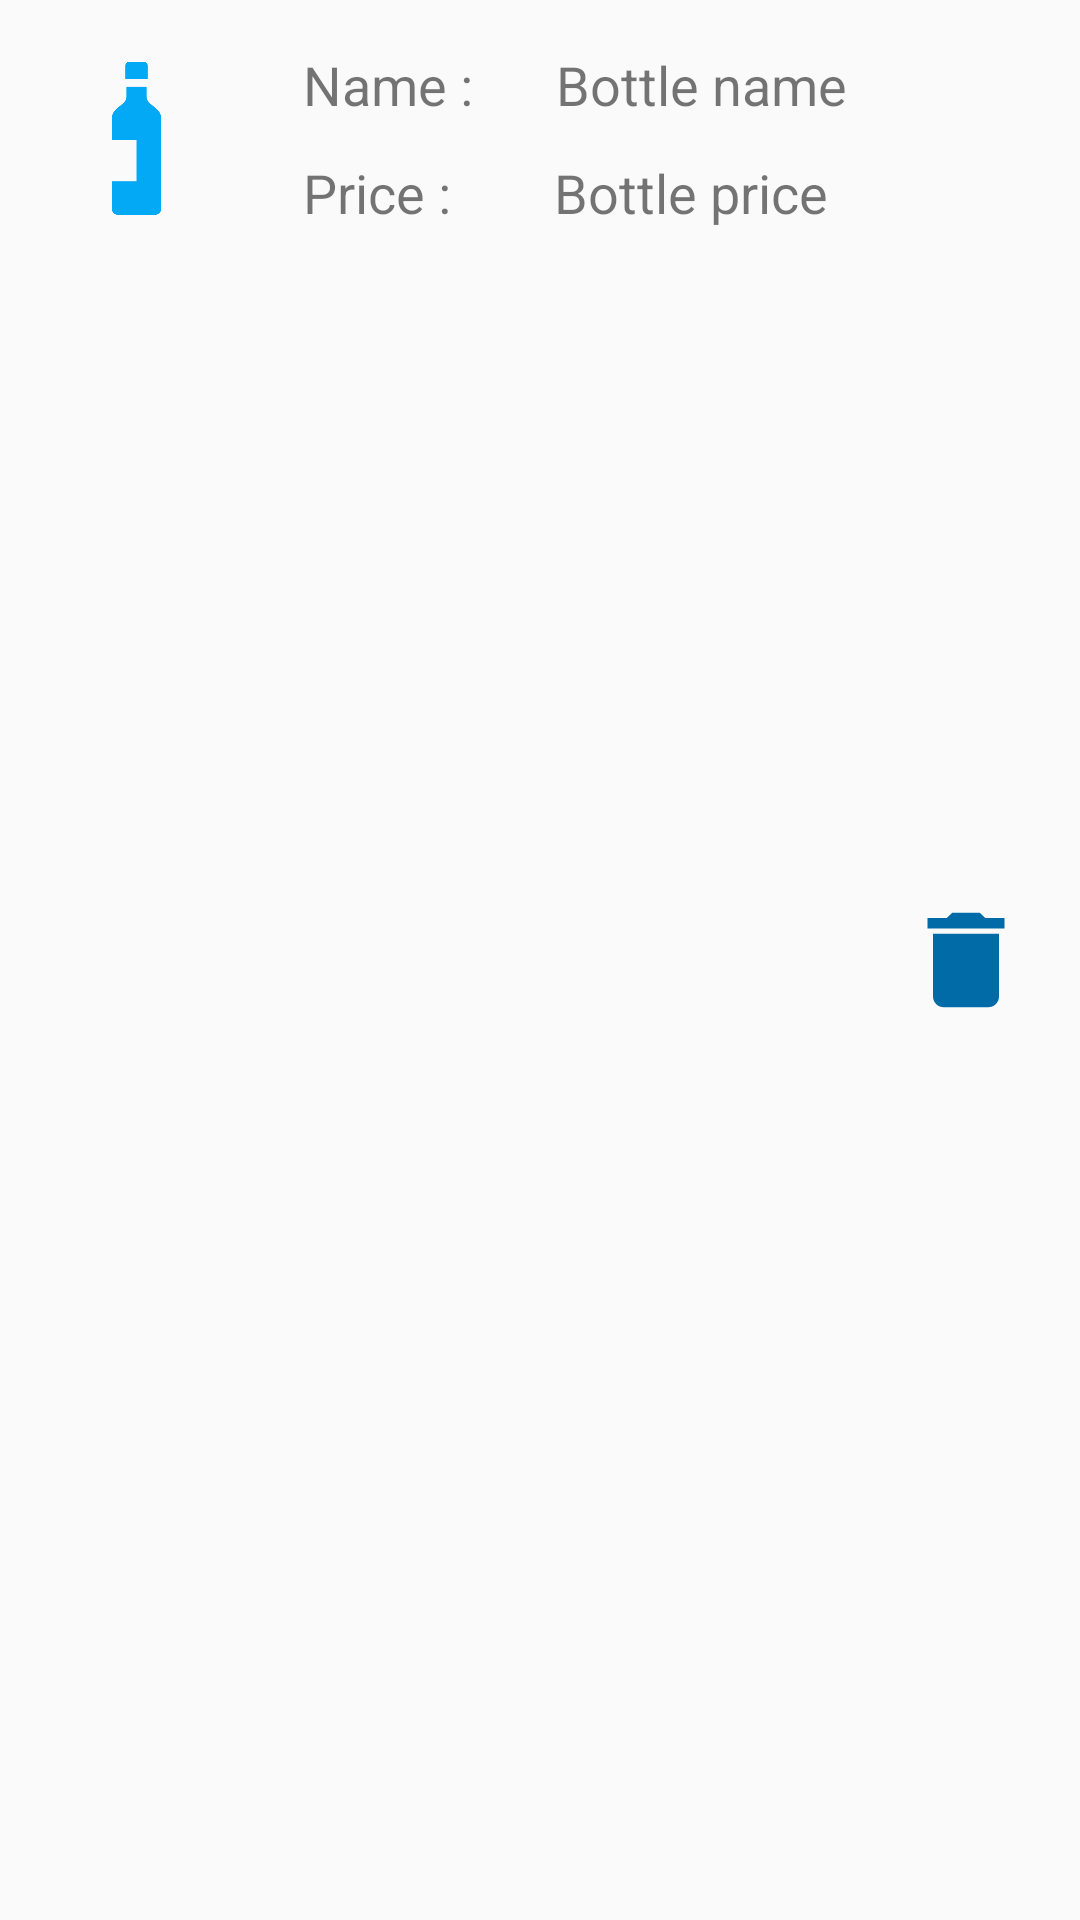

Where to tap for icons on this 1080w x 1920h app screen, as [x,y]:
bottle: [136,138]
delete button: [966,960]
